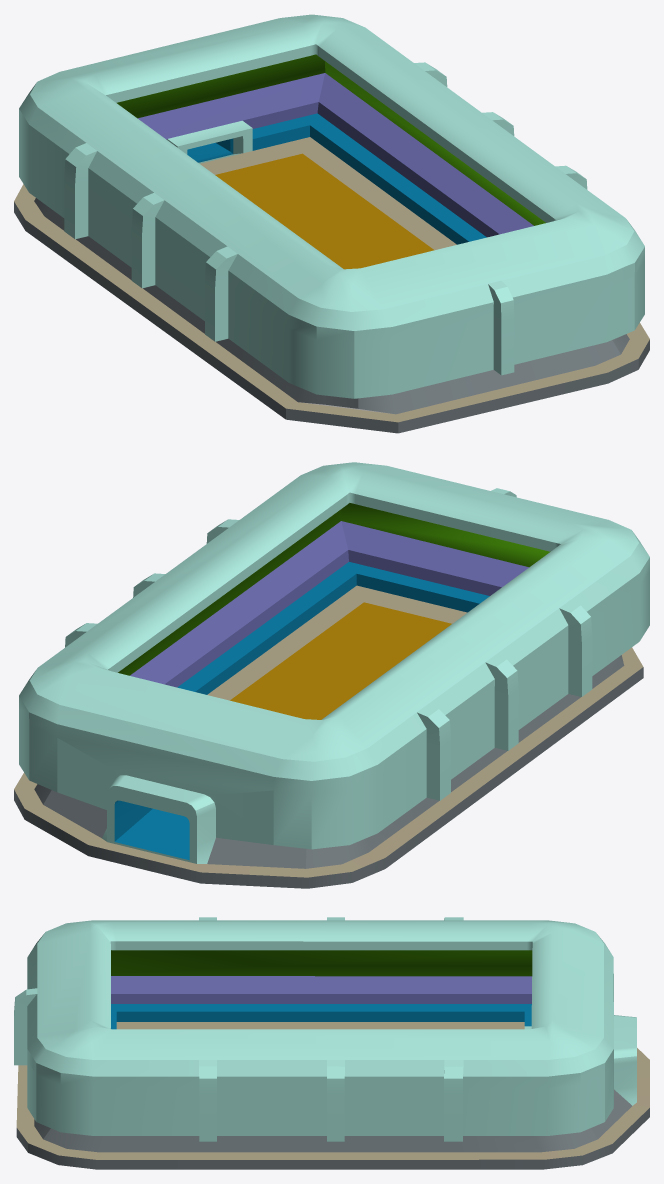
Rendered from stadium2_lp.fbx.
The picture shows the model from 3 angles, top to bottom: view 1: azimuth 30°, elevation 25°; view 2: azimuth 150°, elevation 25°; view 3: azimuth 270°, elevation 25°; orthographic projection. The views are drawn at different scales.
Parts seen in each view (by area): view 1: pCube1; view 2: pCube1; view 3: pCube1.
Part boxes in pixels (x1=…): pCube1: x1=14, y1=14, x2=649, y2=433; pCube1: x1=14, y1=462, x2=649, y2=888; pCube1: x1=14, y1=917, x2=649, y2=1169.
Bounding box in the file's own units: 13.35 × 4.62 × 22.59.
